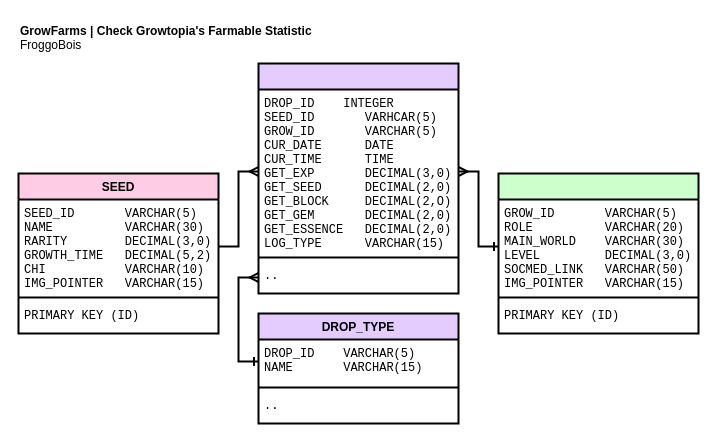
Image size: 716x443. Some labels were removed from this diagram. The shapes that lost their labels are listed below. From the top down, each one's box as (x1, y1, x2, y2) in pixels, then its label:
(257, 62, 459, 294): DROP_LOG
(497, 172, 699, 334): CONTRIBUTOR
